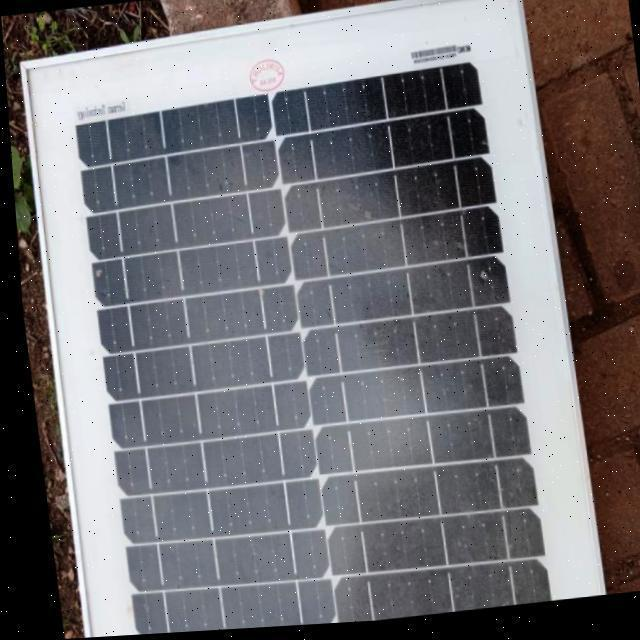Anomaly Solar Panel: (29, 31, 555, 639)
Surface Contaminant: (51, 74, 543, 637)
